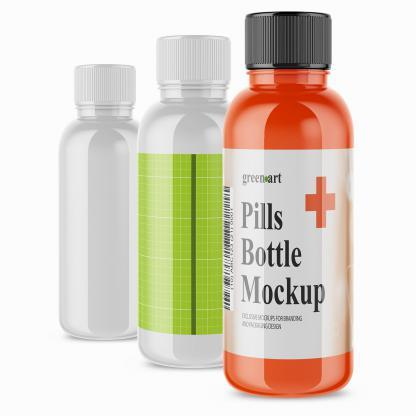jar: (224, 12, 353, 396)
